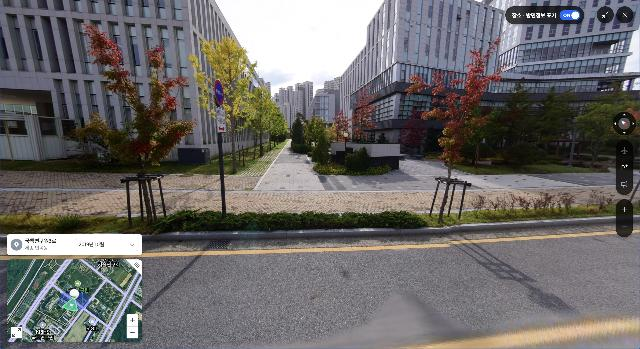ginkgo: (189, 34, 258, 175), (241, 85, 278, 160), (267, 100, 287, 150)
other: (404, 36, 505, 222), (494, 76, 546, 169), (531, 83, 580, 169), (564, 94, 616, 171), (65, 112, 123, 170), (397, 104, 435, 159), (348, 83, 378, 143), (304, 115, 328, 154), (331, 108, 353, 143)
